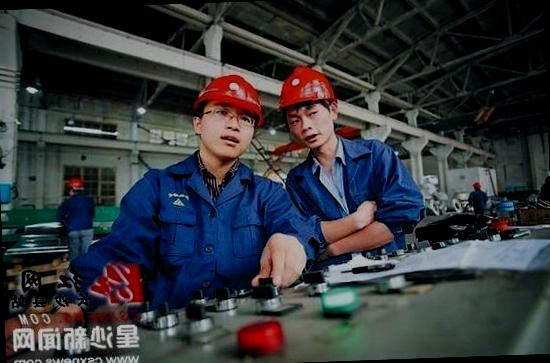helmet: (278, 67, 340, 110), (198, 70, 262, 111)
no_vest: (139, 153, 277, 291), (280, 136, 411, 250)
person: (129, 66, 280, 319), (273, 61, 400, 270)
